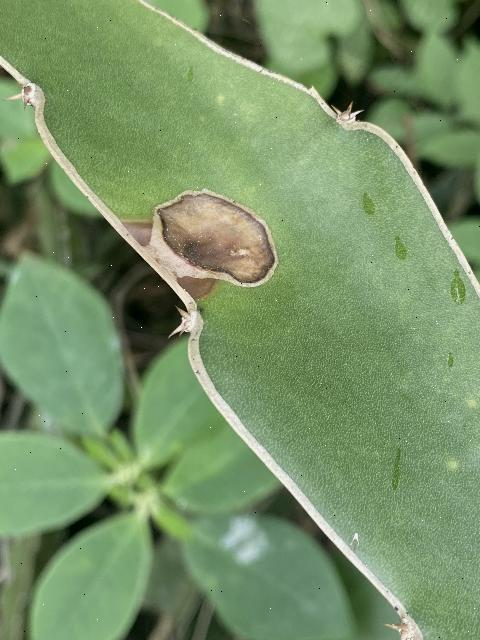stemcanker: (131, 184, 286, 297)
